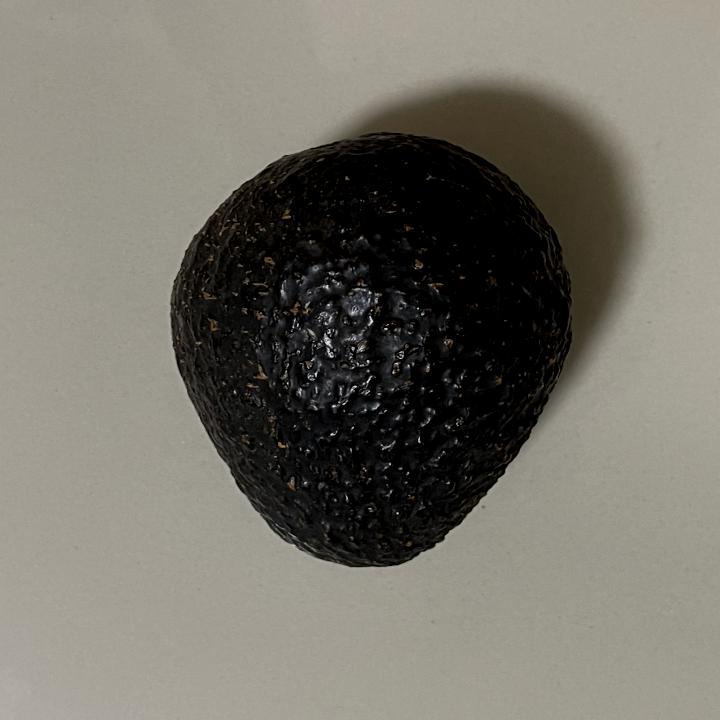Level3: (159, 124, 582, 579)
